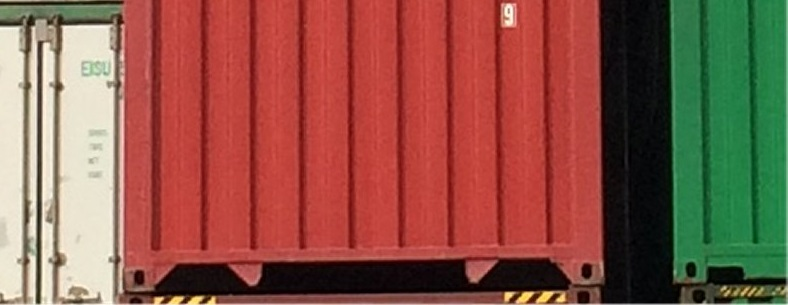container_no_door: (123, 1, 598, 292)
